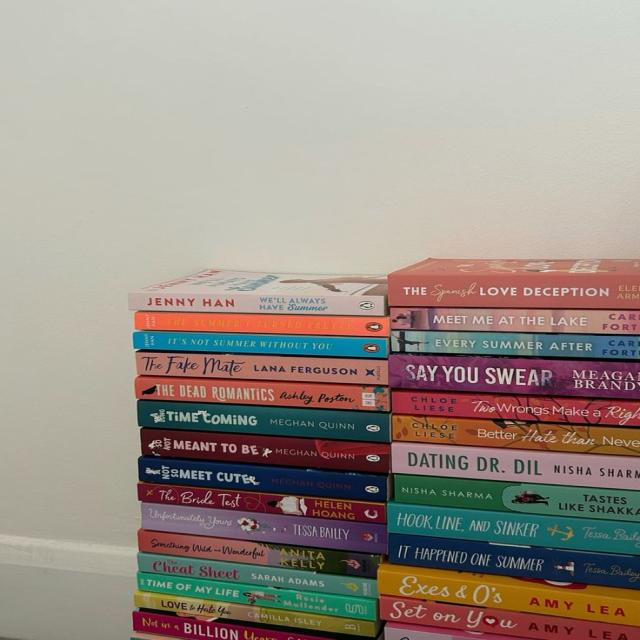book: (377, 562, 639, 626), (388, 535, 639, 588), (388, 503, 639, 555), (387, 258, 639, 309), (141, 503, 386, 553), (139, 529, 380, 578), (391, 442, 639, 489), (393, 474, 639, 521), (138, 573, 377, 620), (379, 596, 639, 639), (139, 457, 387, 502), (389, 355, 639, 399), (134, 591, 378, 636), (141, 429, 390, 473), (138, 553, 377, 598), (138, 400, 390, 442), (139, 483, 385, 523), (391, 416, 639, 455), (135, 376, 390, 412), (392, 391, 639, 426), (137, 352, 388, 386), (390, 330, 639, 359), (133, 331, 387, 358), (134, 312, 389, 337), (390, 309, 639, 334), (133, 611, 332, 639), (128, 293, 385, 314)
